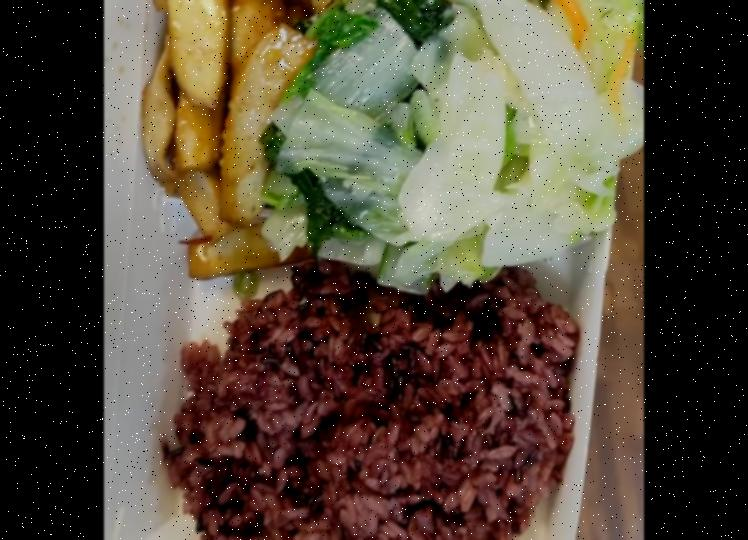big grilled chicken leg: (105, 0, 643, 540)
braised fish: (163, 257, 579, 540)
braised fish fillet: (401, 0, 629, 286), (133, 0, 319, 283), (267, 0, 441, 265)
